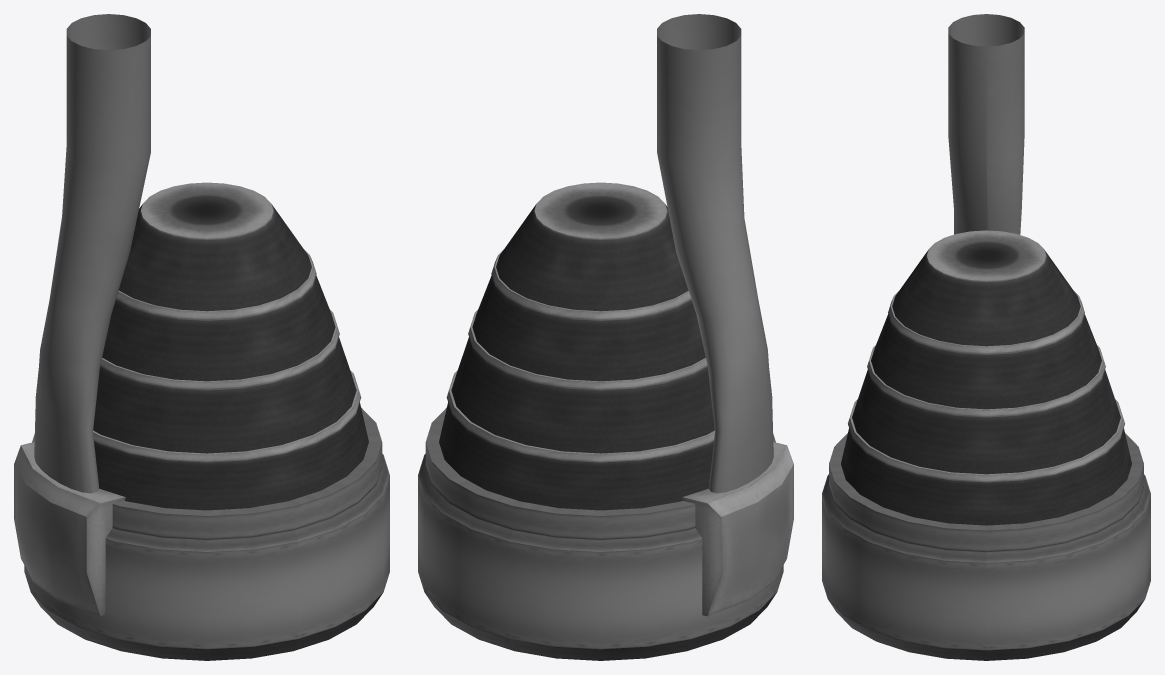
File: LR105nozzle.dae
The picture shows the model from 3 angles, left to right: view 1: azimuth 30°, elevation 25°; view 2: azimuth 150°, elevation 25°; view 3: azimuth 270°, elevation 25°; orthographic projection. The views are drawn at different scales.
Parts seen in each view (by area): view 1: Nozzle, pCylinder7, pCube1; view 2: Nozzle, pCylinder7, pCube1; view 3: Nozzle, pCylinder7.
Boxes of the visible parts, left/top/right/bottom form: Nozzle: left=24, top=182, right=389, bottom=660; pCylinder7: left=34, top=14, right=150, bottom=493; pCube1: left=14, top=442, right=125, bottom=616; Nozzle: left=418, top=182, right=783, bottom=660; pCylinder7: left=657, top=14, right=773, bottom=493; pCube1: left=682, top=442, right=793, bottom=616; Nozzle: left=822, top=230, right=1150, bottom=660; pCylinder7: left=948, top=14, right=1024, bottom=234.
Bounding box in the file's own units: 0.7775 × 1.32 × 0.7521.
